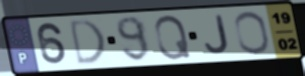6: (36, 22, 69, 67)
9: (115, 15, 152, 64)
D: (67, 17, 108, 68)
J: (203, 14, 232, 56)
O: (232, 10, 273, 57)
Q: (153, 13, 194, 62)
